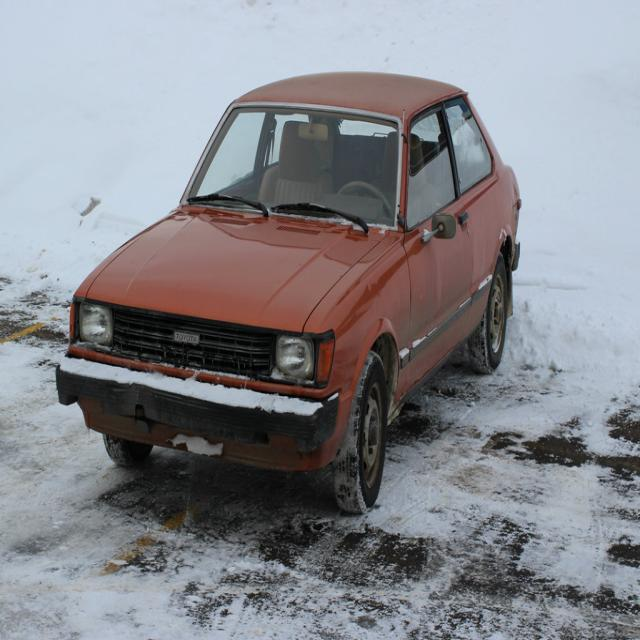car: (53, 66, 520, 511)
